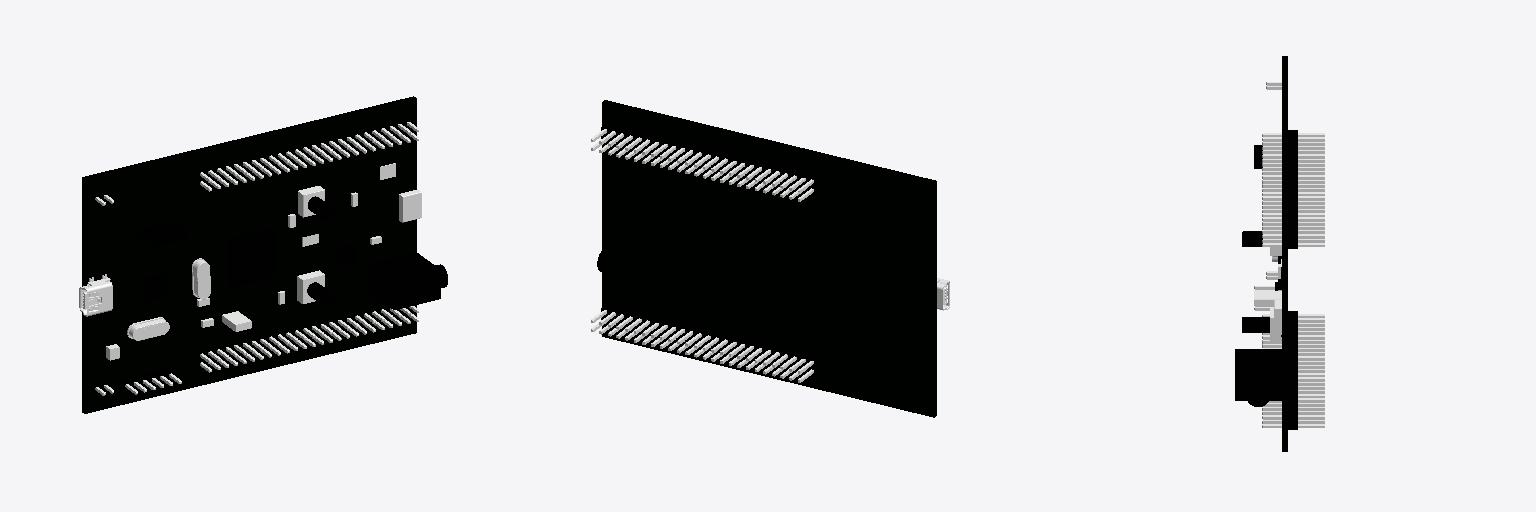
File: stm32f4-model.obj
3 views of the same model, side by side, from view 1: azimuth 30°, elevation 25°; view 2: azimuth 150°, elevation 25°; view 3: azimuth 270°, elevation 25° (orthographic).
Parts seen in each view (by area): view 1: Unnamed-stm30f4.003; view 2: Unnamed-stm30f4.003; view 3: Unnamed-stm30f4.003.
Boxes of the visible parts, x1=… form: Unnamed-stm30f4.003: x1=79, y1=96, x2=447, y2=413; Unnamed-stm30f4.003: x1=591, y1=100, x2=949, y2=417; Unnamed-stm30f4.003: x1=1235, y1=56, x2=1324, y2=451.
Size of the model in its own units: 103 by 65.5 by 23.